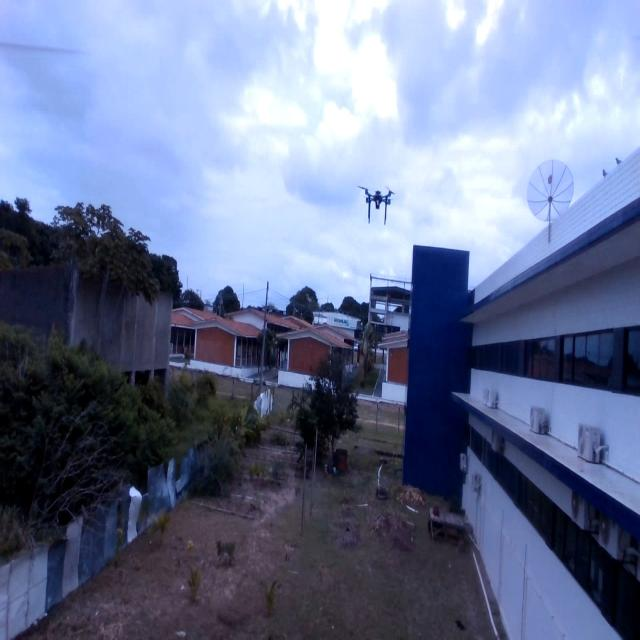-uav-: (356, 169, 398, 227)
